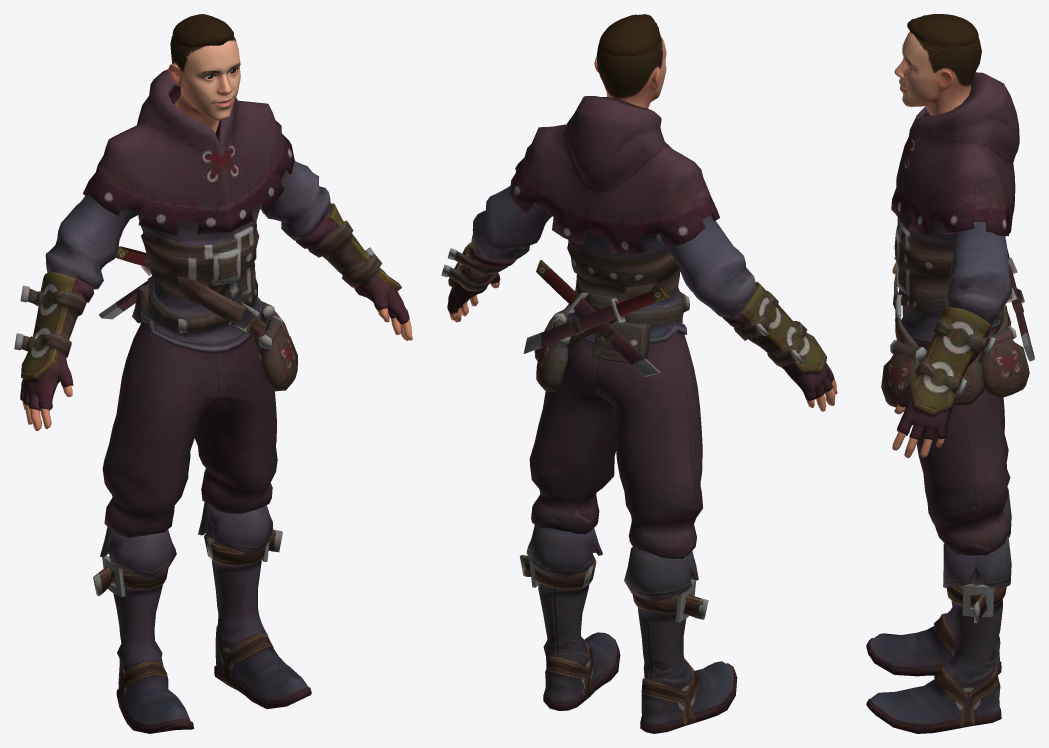
Rendered from man4.glb.
The picture shows the model from 3 angles, left to right: view 1: azimuth 30°, elevation 25°; view 2: azimuth 150°, elevation 25°; view 3: azimuth 270°, elevation 25°; orthographic projection.
Visible parts, largest first — view 1: Wolf3D_Outfit_Top, Wolf3D_Outfit_Bottom, Wolf3D_Outfit_Footwear, Wolf3D_Head, Wolf3D_Hair, Wolf3D_Body; view 2: Wolf3D_Outfit_Top, Wolf3D_Outfit_Bottom, Wolf3D_Outfit_Footwear, Wolf3D_Head, Wolf3D_Hair, Wolf3D_Body; view 3: Wolf3D_Outfit_Top, Wolf3D_Outfit_Footwear, Wolf3D_Outfit_Bottom, Wolf3D_Head, Wolf3D_Hair, Wolf3D_Body.
Part boxes in pixels (box(x1,y1,x2,y2)): Wolf3D_Outfit_Top: box(14, 69, 409, 410); Wolf3D_Outfit_Bottom: box(102, 321, 277, 537); Wolf3D_Outfit_Footwear: box(93, 502, 311, 733); Wolf3D_Head: box(168, 35, 240, 132); Wolf3D_Hair: box(172, 14, 233, 47); Wolf3D_Body: box(22, 308, 412, 430); Wolf3D_Outfit_Top: box(441, 96, 834, 400); Wolf3D_Outfit_Bottom: box(529, 332, 702, 558); Wolf3D_Outfit_Footwear: box(519, 525, 737, 733); Wolf3D_Head: box(594, 35, 666, 108); Wolf3D_Hair: box(599, 14, 660, 55); Wolf3D_Body: box(449, 282, 837, 411); Wolf3D_Outfit_Top: box(881, 72, 1034, 440); Wolf3D_Outfit_Footwear: box(866, 488, 1011, 733); Wolf3D_Outfit_Bottom: box(916, 323, 1010, 555); Wolf3D_Head: box(894, 31, 981, 115); Wolf3D_Hair: box(907, 14, 978, 47); Wolf3D_Body: box(892, 257, 944, 458).
Bounding box in the file's own units: 1.06 × 1.84 × 0.414.
8 materials, 8 textured.
